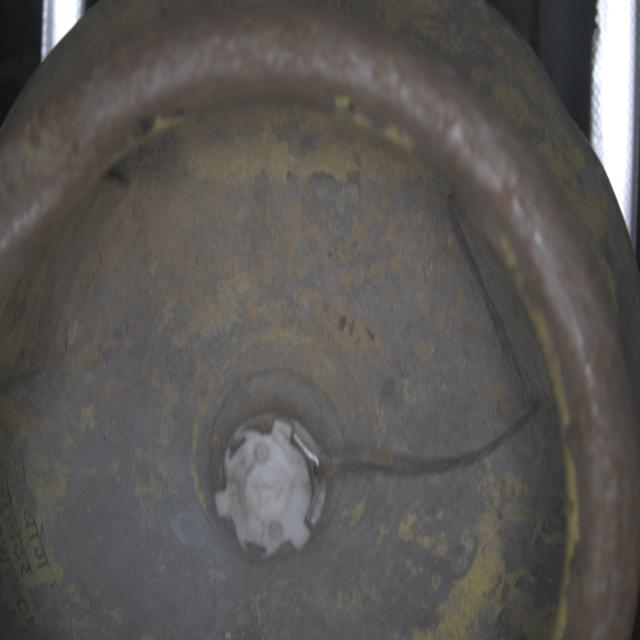Cap: (214, 408, 330, 557)
